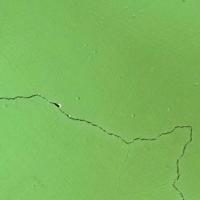crack: (0, 80, 192, 199)
